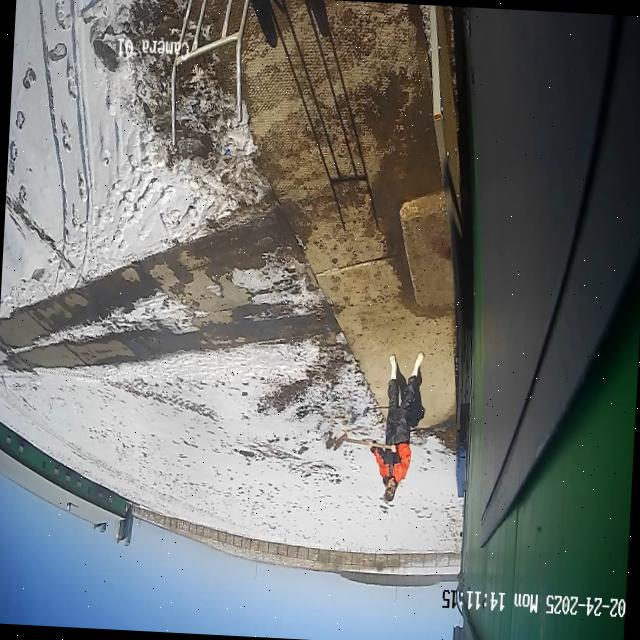Red uniform: (365, 347, 428, 506)
